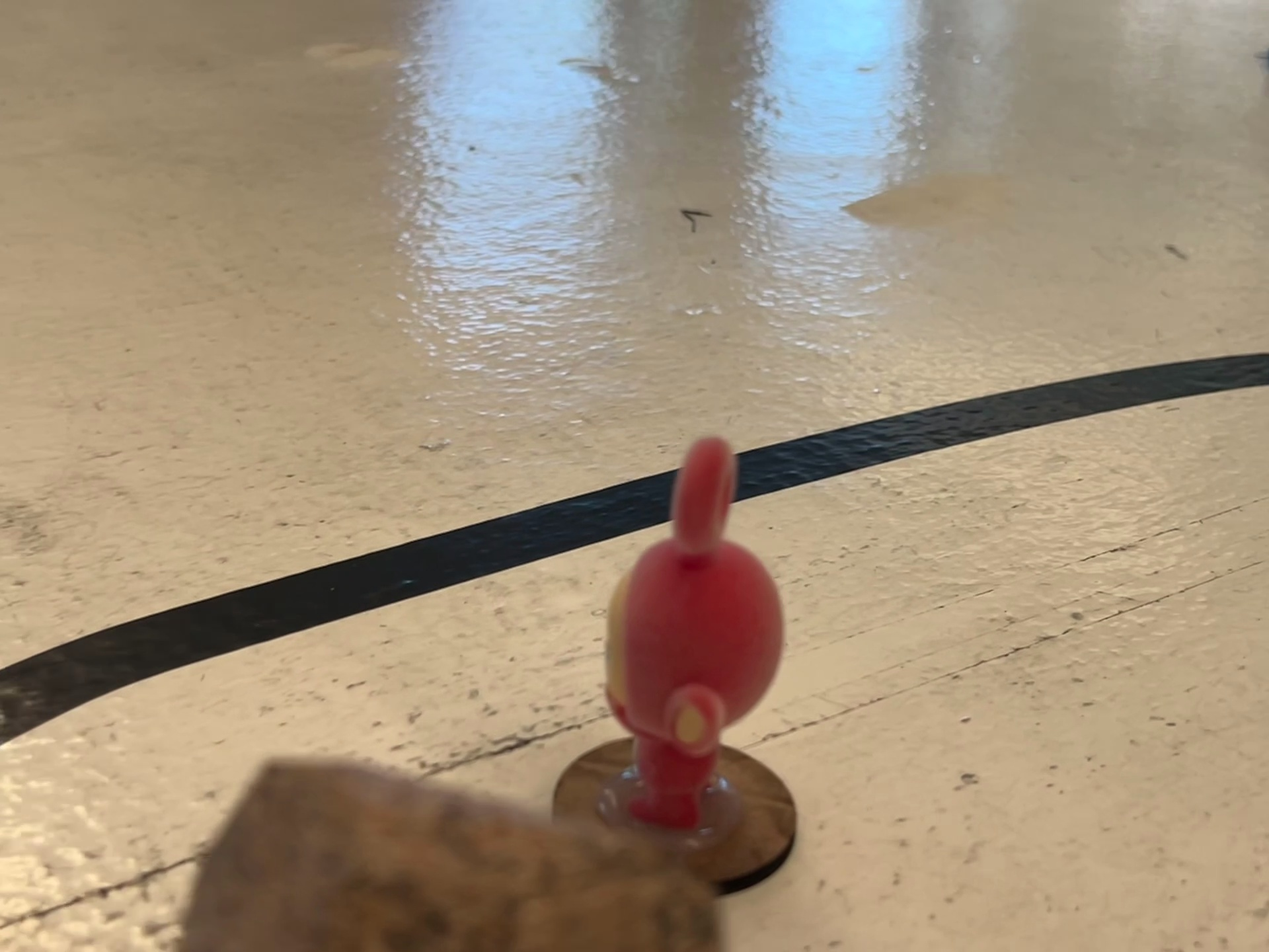teletubby: (605, 437, 783, 829)
